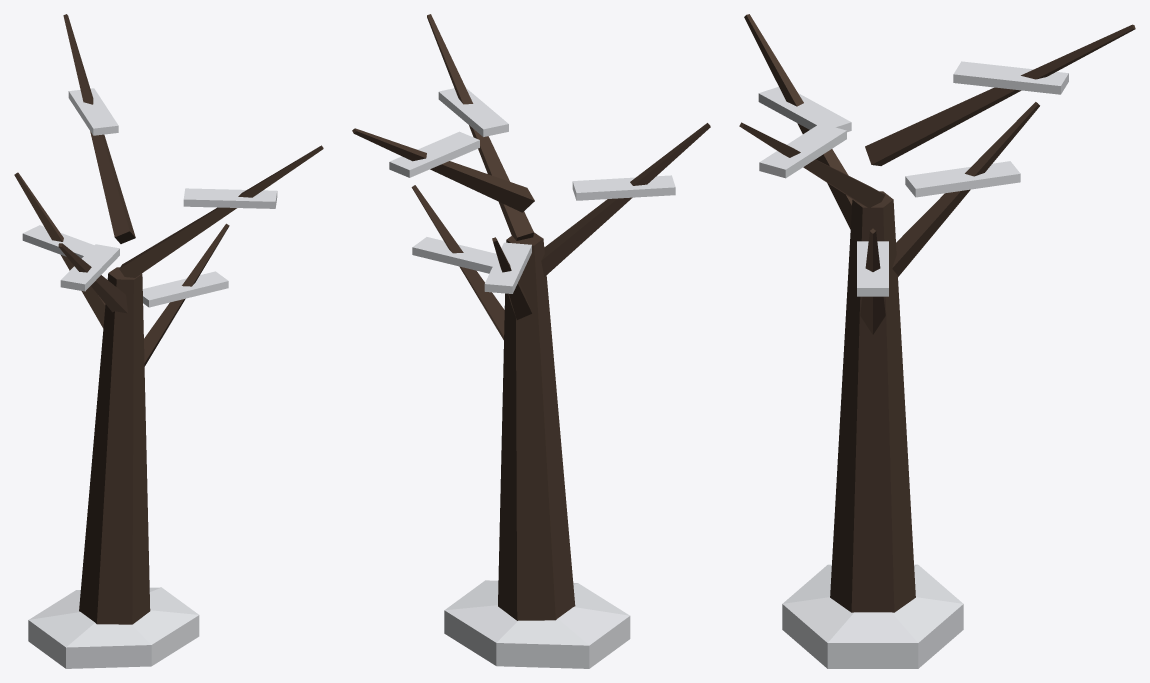
The model's file is a3g_snow_dead_tree.glb.
3 views of the same model, side by side, from view 1: azimuth 30°, elevation 25°; view 2: azimuth 150°, elevation 25°; view 3: azimuth 270°, elevation 25° (orthographic). The views are drawn at different scales.
Parts seen in each view (by area): view 1: a3g_snow_dead_tree; view 2: a3g_snow_dead_tree; view 3: a3g_snow_dead_tree.
Boxes of the visible parts, bbox=[...] form: a3g_snow_dead_tree: bbox=[14, 14, 323, 668]; a3g_snow_dead_tree: bbox=[352, 14, 710, 668]; a3g_snow_dead_tree: bbox=[739, 14, 1135, 668].
Size of the model in its own units: 2.31 by 4.55 by 2.5.
